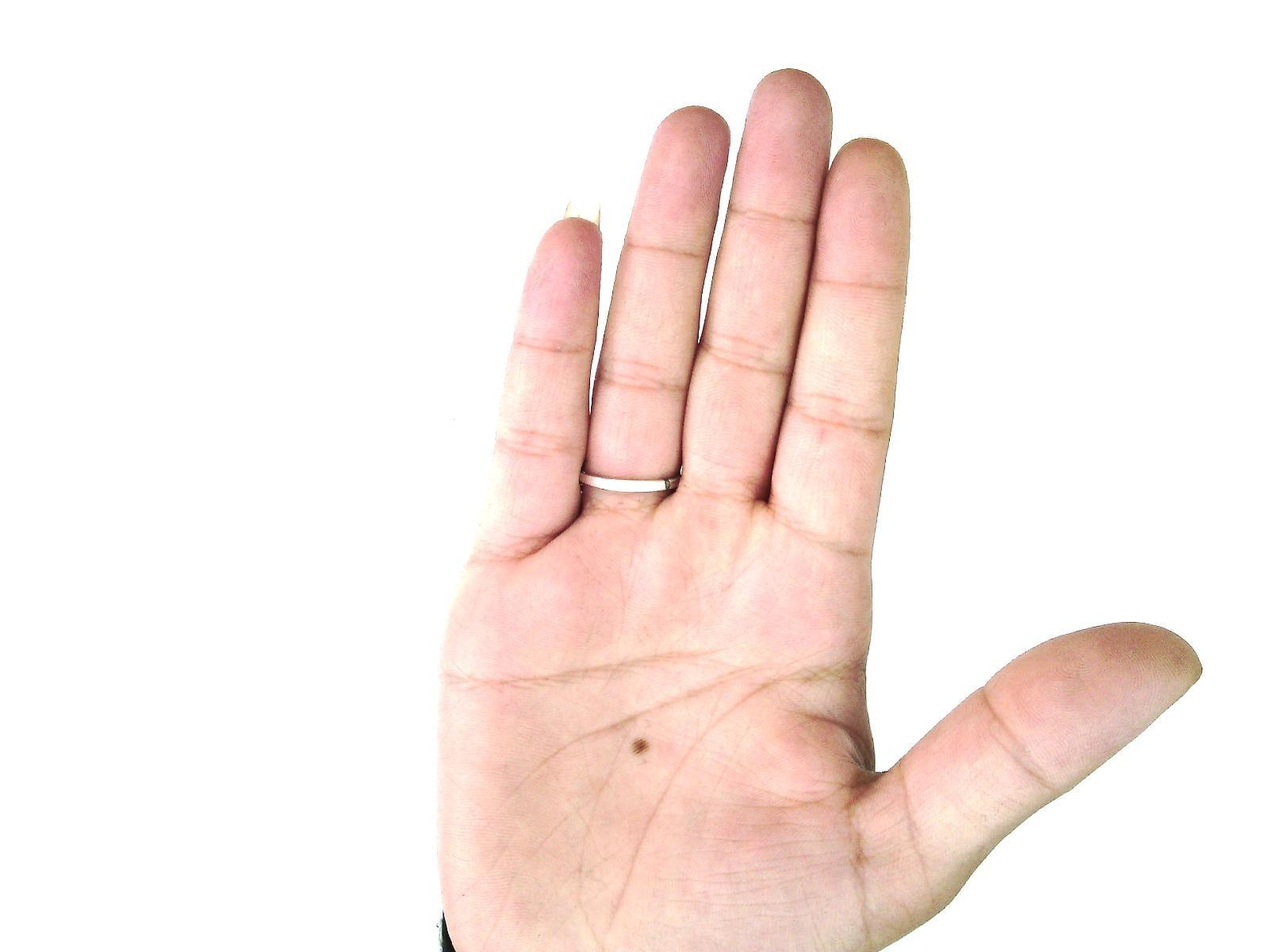open_palm: (431, 67, 1205, 951)
